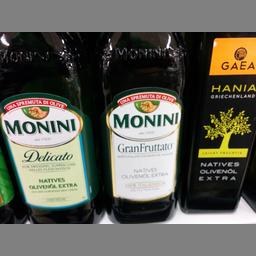oil: (0, 33, 104, 222), (96, 31, 185, 222), (182, 30, 255, 212)
